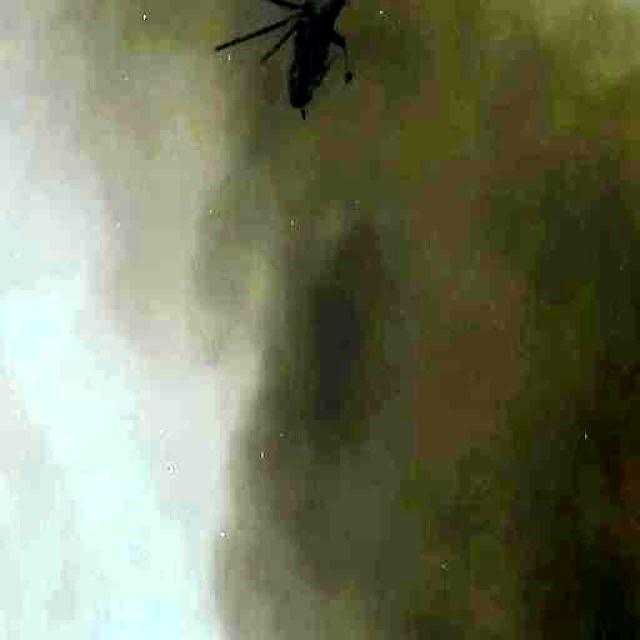drone: (214, 0, 380, 141)
